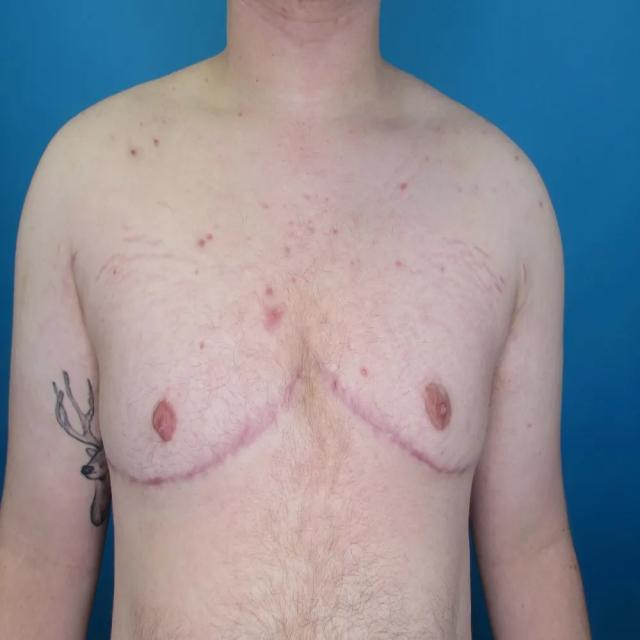Seno herido: (93, 318, 302, 494), (310, 320, 493, 496)
